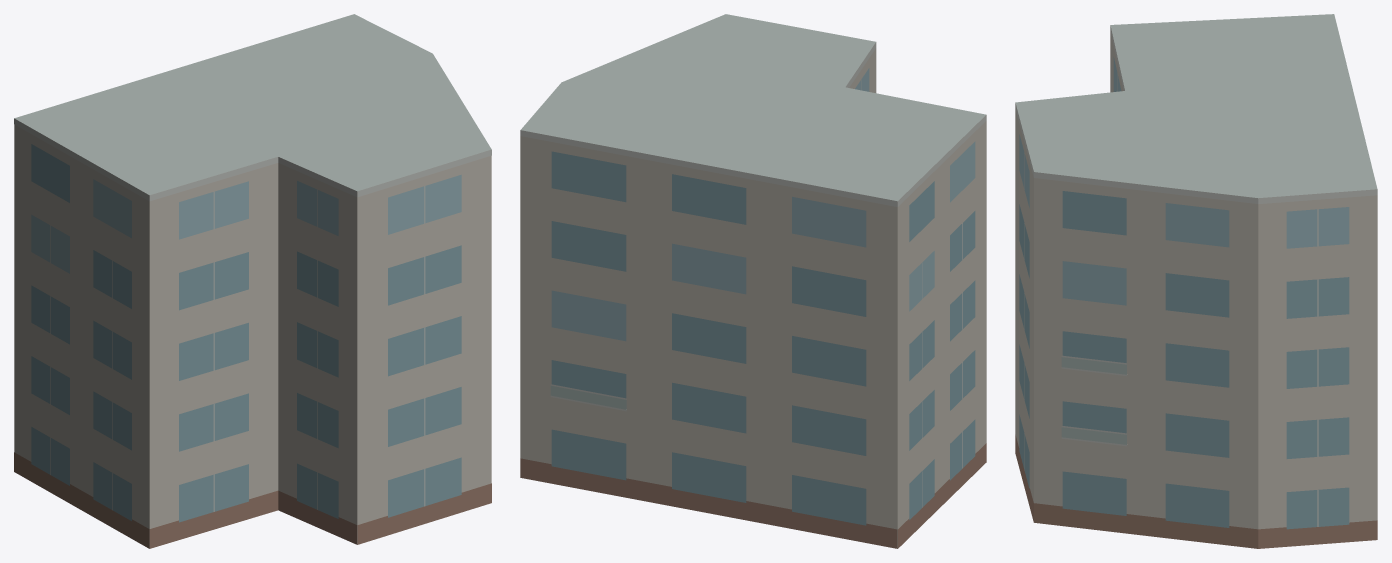
Rendered from survey-upis-32726806.glb.
3 renders of one model, left to right at view 1: azimuth 30°, elevation 25°; view 2: azimuth 150°, elevation 25°; view 3: azimuth 270°, elevation 25°, orthographic.
Parts seen in each view (by area): view 1: survey-upis-32726806.tmp; view 2: survey-upis-32726806.tmp; view 3: survey-upis-32726806.tmp.
Boxes of the visible parts, x1=… form: survey-upis-32726806.tmp: x1=14, y1=14, x2=491, y2=548; survey-upis-32726806.tmp: x1=520, y1=14, x2=986, y2=548; survey-upis-32726806.tmp: x1=1015, y1=14, x2=1377, y2=548.
Bounding box in the file's own units: 16.06 × 14.25 × 13.34.
